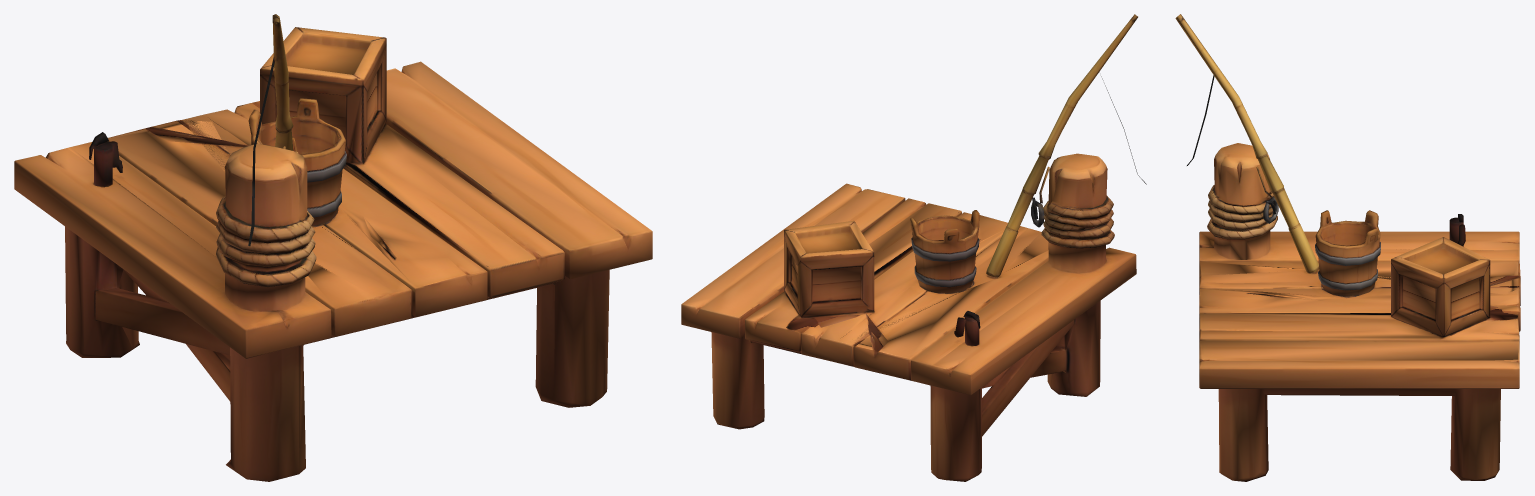
The picture shows the model from 3 angles, left to right: view 1: azimuth 30°, elevation 25°; view 2: azimuth 150°, elevation 25°; view 3: azimuth 270°, elevation 25°; orthographic projection. The views are drawn at different scales.
Parts seen in each view (by area): view 1: tripo_node_3047cd8c-7738-4bd9-b793-1bd5abf16eba; view 2: tripo_node_3047cd8c-7738-4bd9-b793-1bd5abf16eba; view 3: tripo_node_3047cd8c-7738-4bd9-b793-1bd5abf16eba.
Boxes of the visible parts, x1=… form: tripo_node_3047cd8c-7738-4bd9-b793-1bd5abf16eba: x1=14, y1=14, x2=652, y2=481; tripo_node_3047cd8c-7738-4bd9-b793-1bd5abf16eba: x1=681, y1=14, x2=1146, y2=481; tripo_node_3047cd8c-7738-4bd9-b793-1bd5abf16eba: x1=1175, y1=14, x2=1520, y2=481.
Bounding box in the file's own units: 0.8376 × 0.9609 × 0.8767.
Materials: 1 (1 with a texture image).
